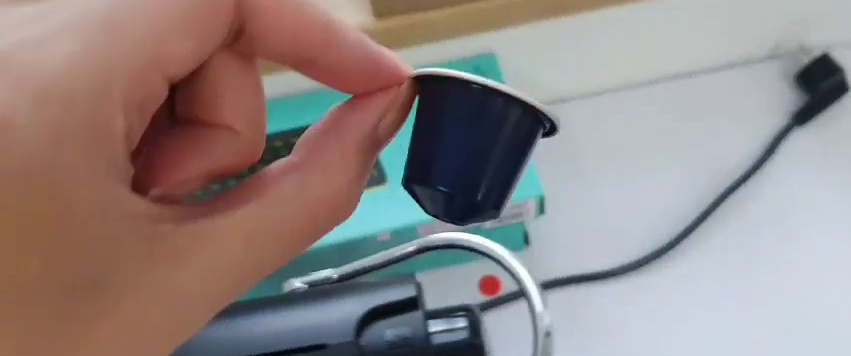capsule_1: (401, 64, 558, 227)
